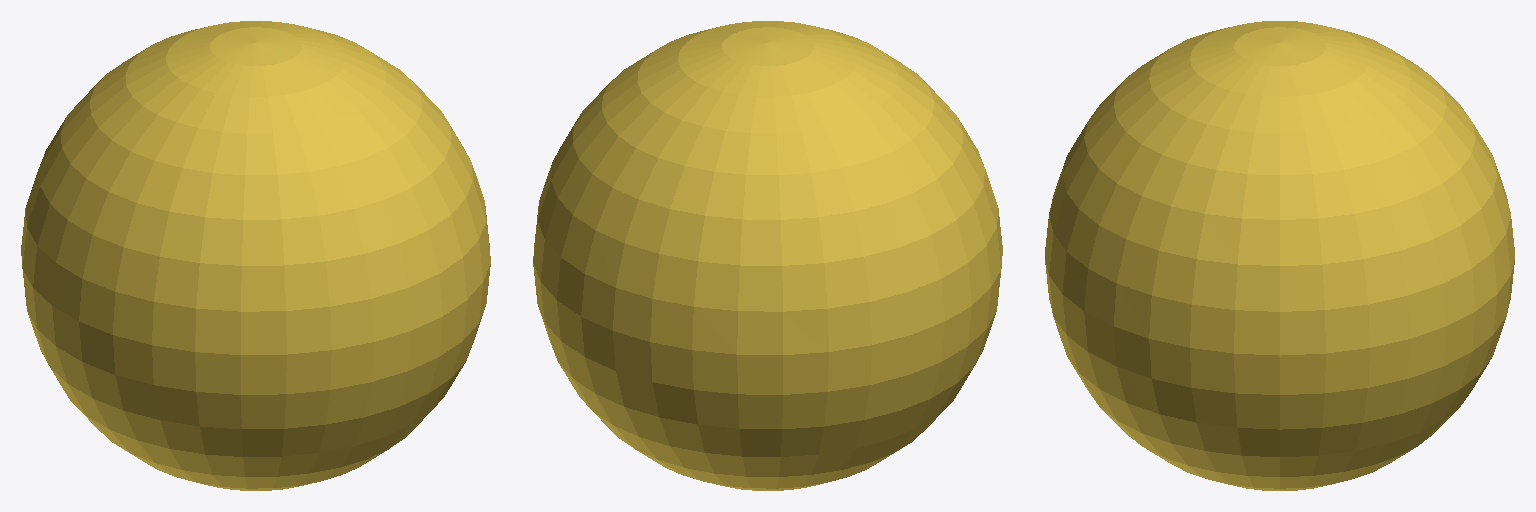
The model's file is bolaPinball.obj.
3 views of the same model, side by side, from view 1: azimuth 30°, elevation 25°; view 2: azimuth 150°, elevation 25°; view 3: azimuth 270°, elevation 25° (orthographic).
Parts seen in each view (by area): view 1: Sphere001; view 2: Sphere001; view 3: Sphere001.
Boxes of the visible parts, <box> form: Sphere001: <box>21,21,490,490</box>; Sphere001: <box>533,21,1002,490</box>; Sphere001: <box>1045,21,1514,490</box>.
Bounding box in the file's own units: 2.06 × 2.06 × 2.06.